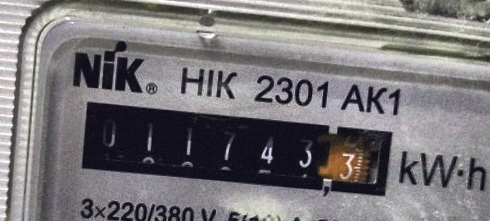0: (97, 114, 119, 151)
1: (179, 122, 197, 157), (143, 118, 155, 152)
3: (293, 134, 315, 170), (336, 150, 356, 184)
4: (256, 131, 276, 166)
7: (217, 127, 238, 162)
screen: (65, 88, 406, 210)
